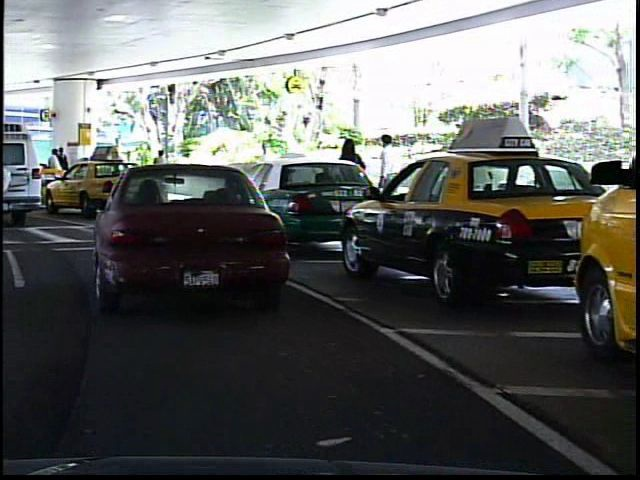person: (329, 131, 365, 231), (371, 128, 403, 229), (250, 136, 279, 209), (144, 145, 170, 198), (43, 147, 61, 198), (53, 144, 69, 196)
